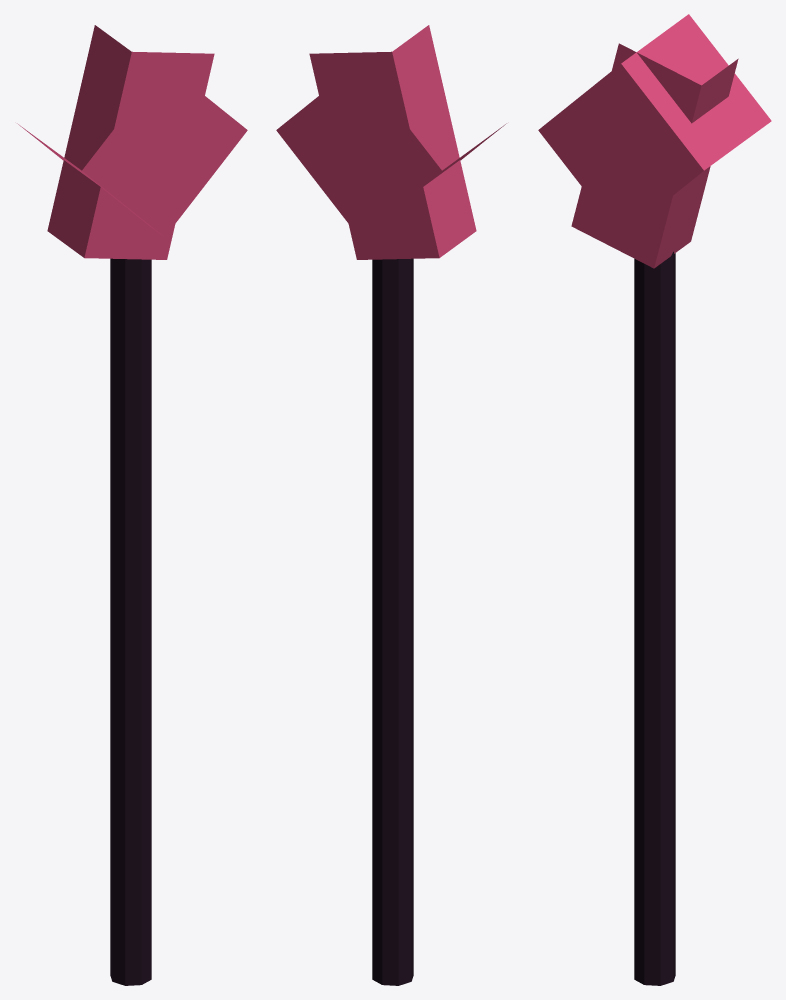
File: grimstroke.glb
3 views of the same model, side by side, from view 1: azimuth 30°, elevation 25°; view 2: azimuth 150°, elevation 25°; view 3: azimuth 330°, elevation 25° (orthographic).
Parts seen in each view (by area): view 1: grimstroke-shaft, grimstroke-brush, grimstroke-head-gem; view 2: grimstroke-shaft, grimstroke-brush, grimstroke-head-gem; view 3: grimstroke-shaft, grimstroke-head-gem, grimstroke-brush.
Boxes of the visible parts, x1,y1,x2,y2 form: grimstroke-shaft: [110, 258, 151, 985]; grimstroke-brush: [47, 25, 214, 259]; grimstroke-head-gem: [17, 64, 247, 236]; grimstroke-shaft: [372, 258, 413, 985]; grimstroke-brush: [309, 25, 476, 259]; grimstroke-head-gem: [276, 64, 506, 236]; grimstroke-shaft: [634, 251, 675, 985]; grimstroke-head-gem: [538, 14, 771, 236]; grimstroke-brush: [571, 43, 738, 268].
Bounding box in the file's own units: 0.3111 × 1.69 × 0.22.
